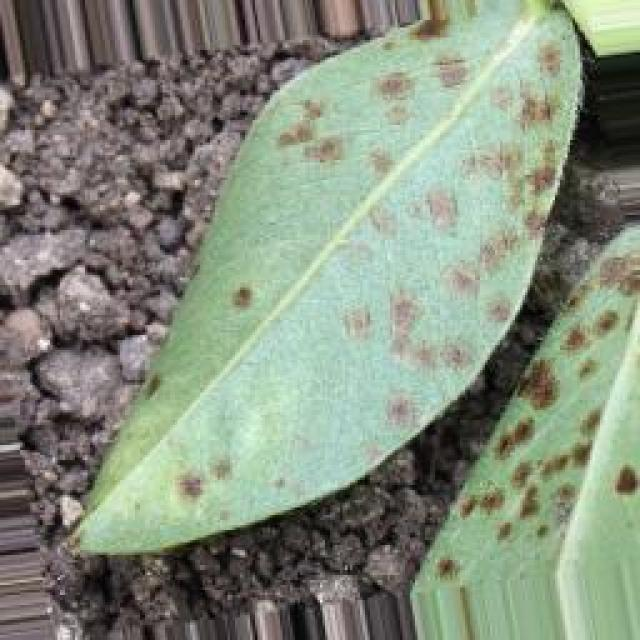Whitefly: (30, 0, 640, 640)
